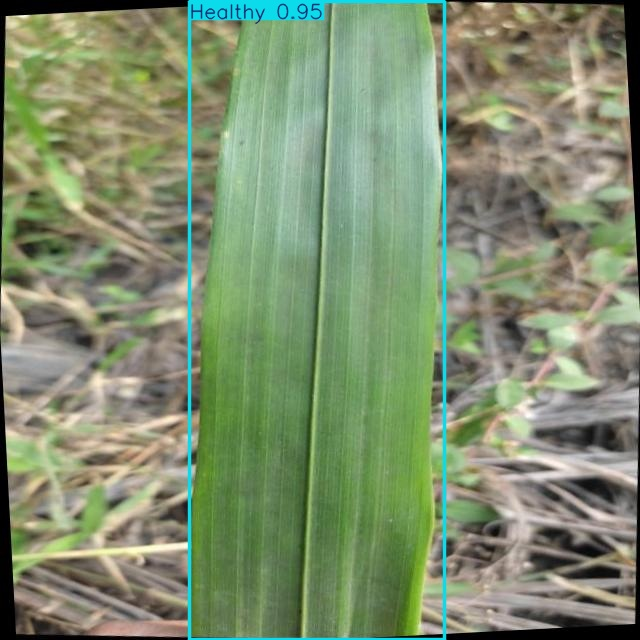Healthy: (189, 1, 445, 639)
